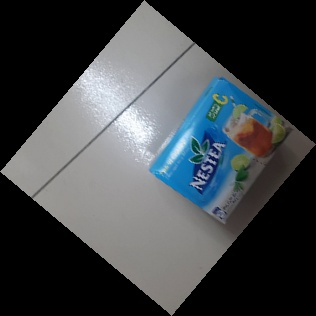Nestea: (146, 75, 293, 227)
